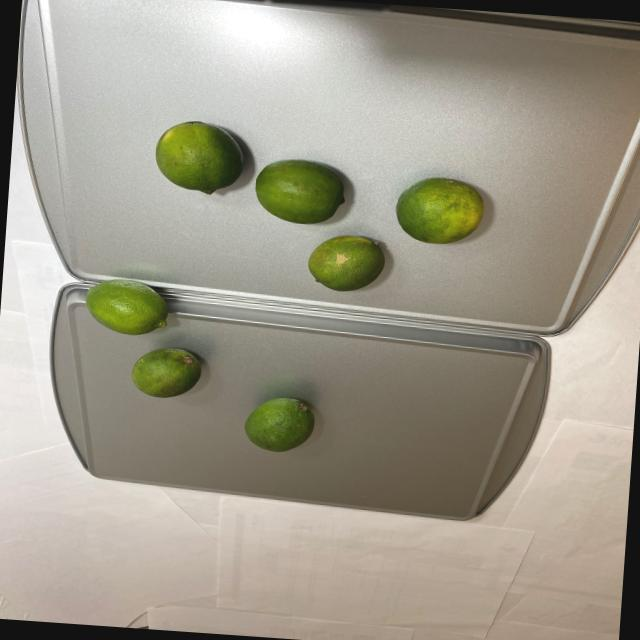lemon: (146, 114, 493, 300), (75, 272, 322, 456)
